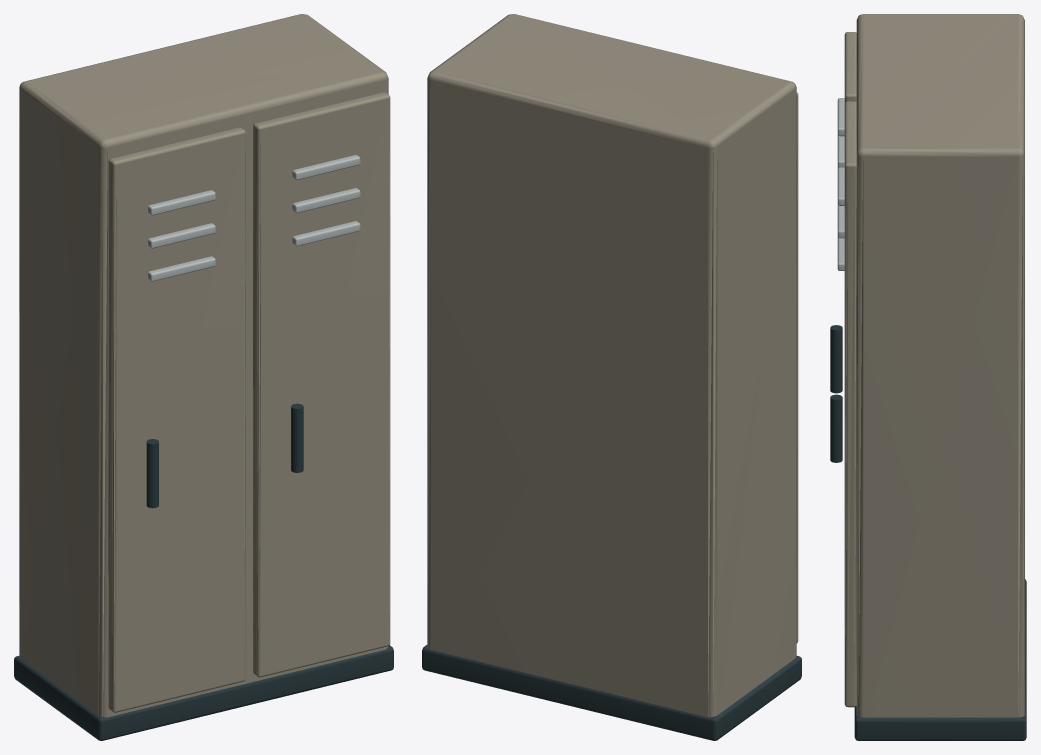
File: 11_starter_lockers.glb
3 views of the same model, side by side, from view 1: azimuth 30°, elevation 25°; view 2: azimuth 150°, elevation 25°; view 3: azimuth 270°, elevation 25° (orthographic).
Parts seen in each view (by area): view 1: 11_starter_lockers__Static; view 2: 11_starter_lockers__Static; view 3: 11_starter_lockers__Static.
Part boxes in pixels (x1=…): 11_starter_lockers__Static: x1=14, y1=14, x2=393, y2=740; 11_starter_lockers__Static: x1=422, y1=14, x2=801, y2=740; 11_starter_lockers__Static: x1=830, y1=14, x2=1026, y2=740.
Bounding box in the file's own units: 0.92 × 1.78 × 0.537.
